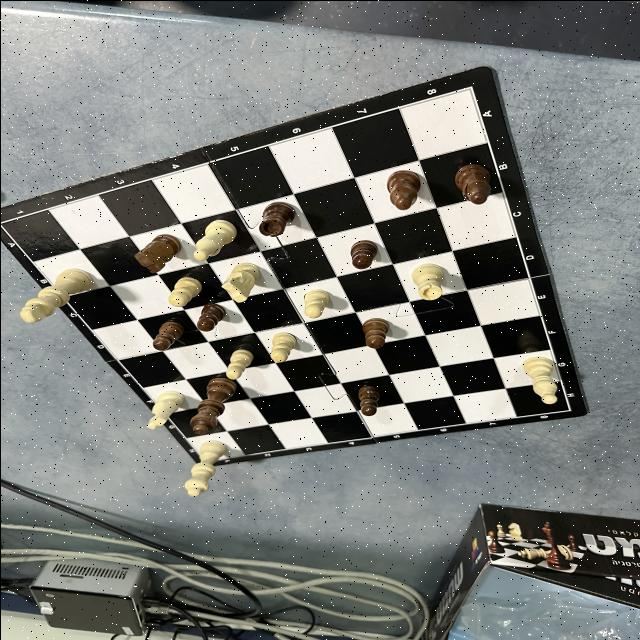Black-Bishop: (454, 162, 492, 205), (386, 169, 420, 210)
Black-Knight: (133, 232, 181, 272)
Black-Pawn: (152, 320, 184, 350), (348, 238, 378, 268), (360, 316, 388, 348), (196, 302, 226, 330), (356, 384, 380, 416)
Black-Rook: (258, 200, 296, 237)
White-Bishop: (192, 218, 236, 260), (520, 356, 557, 404)
White-King: (18, 266, 92, 322)
White-Knight: (144, 389, 184, 429), (220, 262, 260, 302)
White-Pawn: (167, 276, 201, 306), (268, 332, 296, 362), (225, 348, 252, 378), (302, 288, 329, 318)
White-Queen: (188, 376, 235, 434), (182, 439, 225, 495)
White-Rook: (410, 263, 444, 300)
